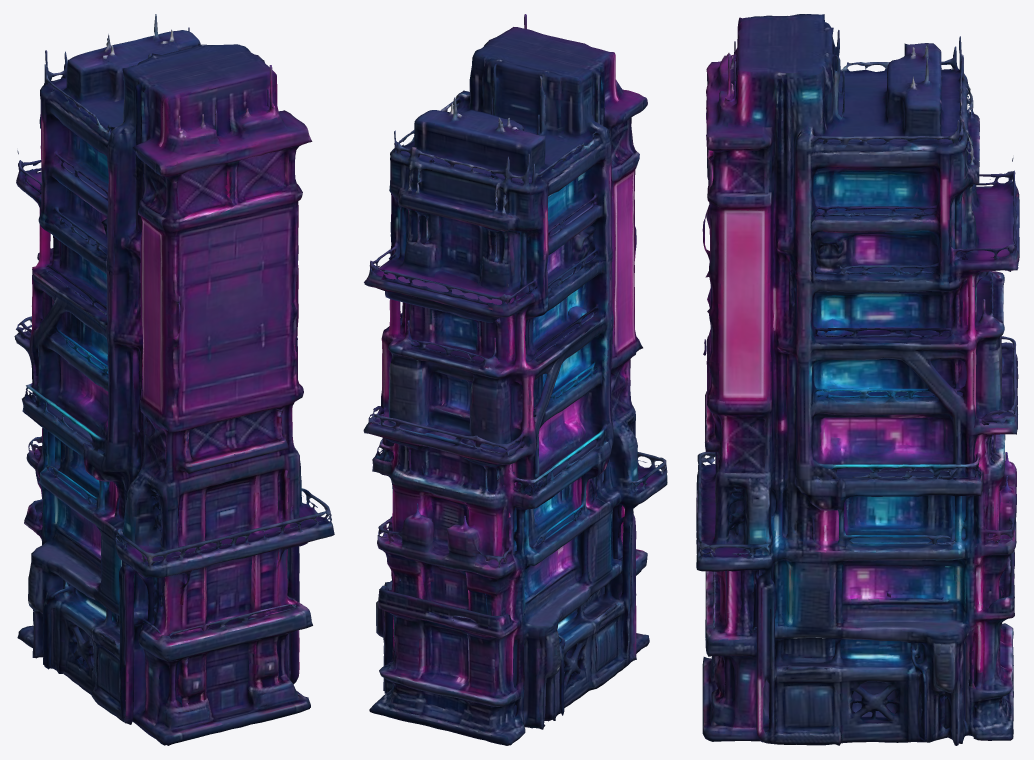
File: tower-a.glb
3 views of the same model, side by side, from view 1: azimuth 30°, elevation 25°; view 2: azimuth 150°, elevation 25°; view 3: azimuth 270°, elevation 25° (orthographic). The views are drawn at different scales.
Visible parts, largest first — view 1: 015dd939-d8a0-44cf-b990-9b39d331b9fa; view 2: 015dd939-d8a0-44cf-b990-9b39d331b9fa; view 3: 015dd939-d8a0-44cf-b990-9b39d331b9fa.
Boxes of the visible parts, left/top/right/bottom form: 015dd939-d8a0-44cf-b990-9b39d331b9fa: left=14, top=14, right=334, bottom=745; 015dd939-d8a0-44cf-b990-9b39d331b9fa: left=363, top=14, right=667, bottom=745; 015dd939-d8a0-44cf-b990-9b39d331b9fa: left=696, top=14, right=1019, bottom=745.
Size of the model in its own units: 0.2976 by 0.9691 by 0.423.
1 material, 1 textured.
